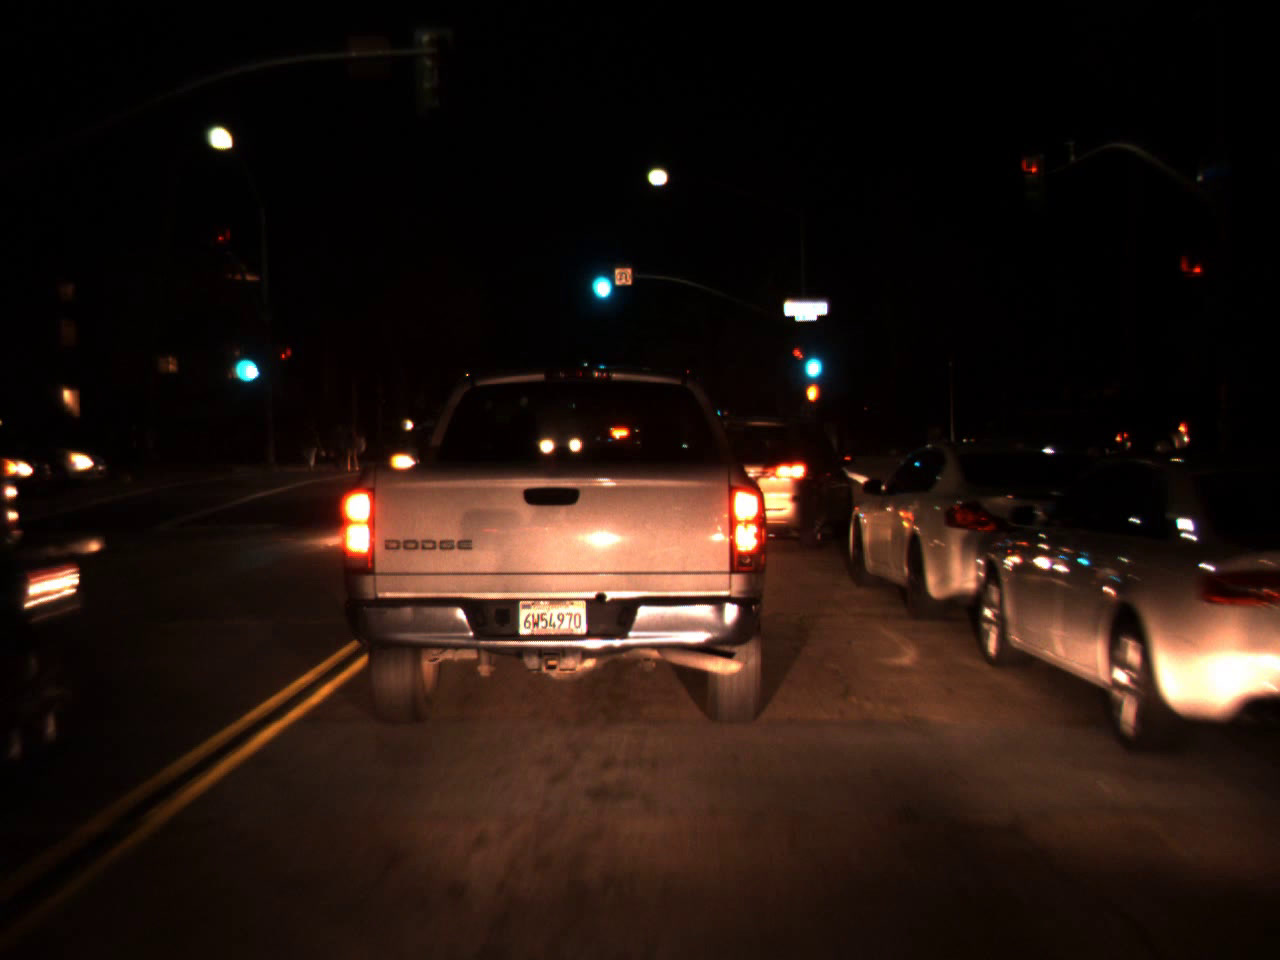go: (227, 328, 261, 391), (585, 249, 615, 306), (798, 332, 825, 386)
